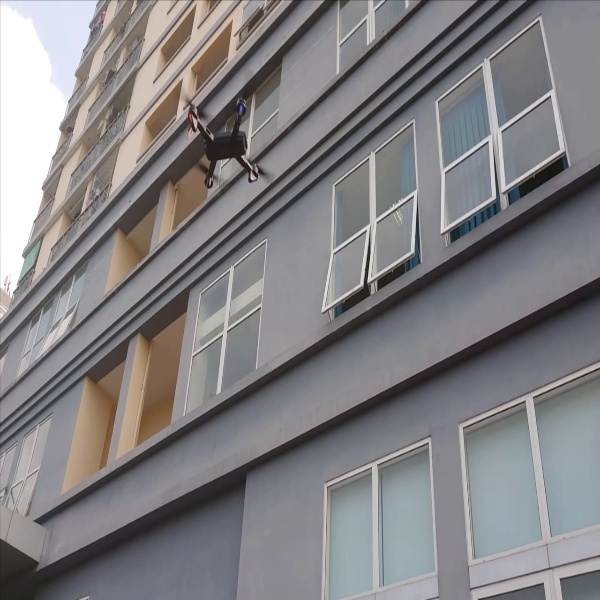drone: (172, 85, 283, 198)
